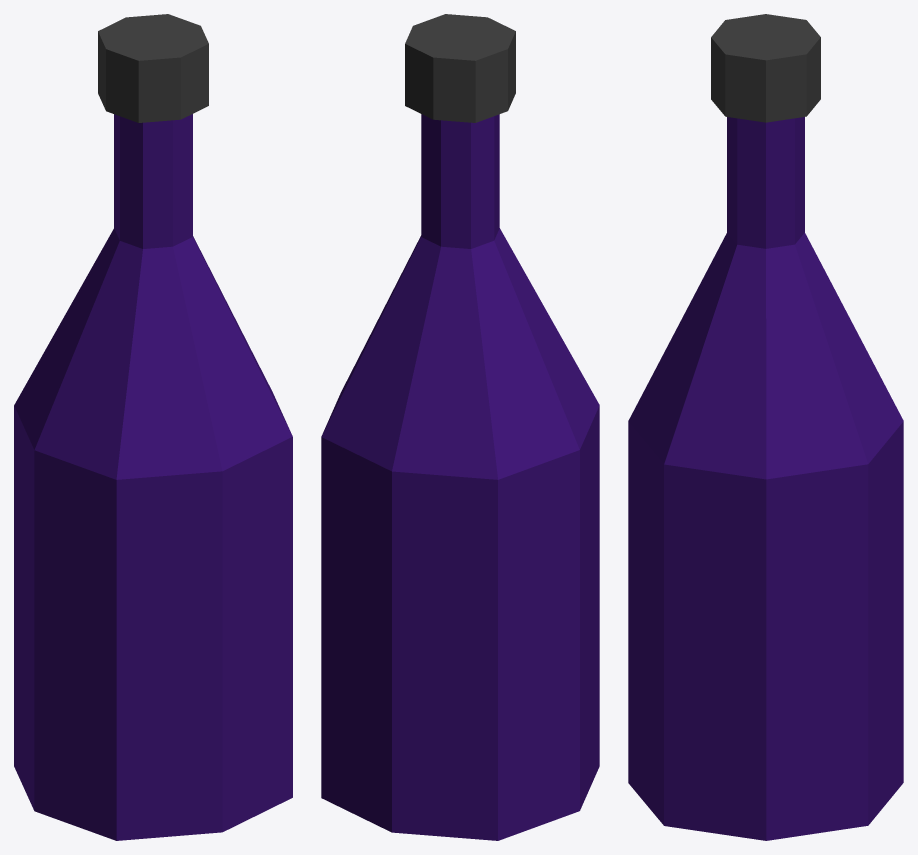
The model's file is Kitchen_Bottle4.fbx.
3 renders of one model, left to right at view 1: azimuth 30°, elevation 25°; view 2: azimuth 150°, elevation 25°; view 3: azimuth 270°, elevation 25°, orthographic.
Visible parts, largest first — view 1: Kitchen_Bottle4; view 2: Kitchen_Bottle4; view 3: Kitchen_Bottle4.
Part boxes in pixels (x1,y1,x2,y2): Kitchen_Bottle4: [14, 14, 292, 840]; Kitchen_Bottle4: [321, 14, 599, 840]; Kitchen_Bottle4: [628, 14, 903, 840].
Bounding box in the file's own units: 17.01 × 50.75 × 17.01.
